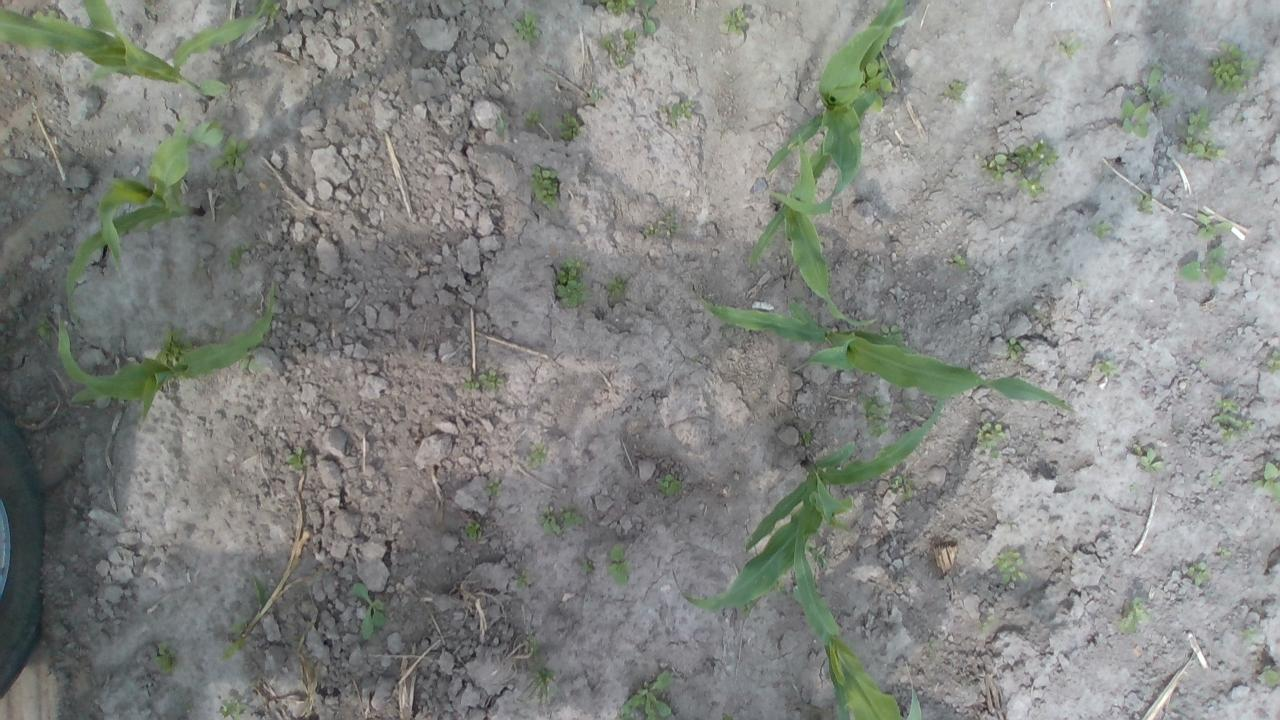Maize: (674, 396, 947, 610), (700, 303, 1080, 416), (63, 118, 223, 332), (55, 278, 279, 422), (747, 84, 881, 323), (763, 0, 912, 213), (789, 502, 928, 720), (1, 0, 280, 102), (221, 574, 272, 661)
Weeds: (981, 138, 1060, 198), (1119, 62, 1176, 138), (618, 668, 676, 720), (1208, 41, 1259, 94), (1182, 108, 1226, 162), (1178, 244, 1228, 284), (352, 583, 387, 640), (552, 259, 588, 308), (866, 58, 894, 114), (538, 504, 586, 536), (858, 391, 889, 437), (528, 163, 560, 207), (600, 30, 636, 69), (1212, 412, 1254, 443), (976, 421, 1008, 459), (1253, 459, 1280, 502), (213, 140, 250, 170), (995, 548, 1027, 582), (1118, 598, 1150, 632), (1195, 212, 1233, 239), (160, 332, 190, 365), (608, 544, 631, 586), (1132, 444, 1164, 474), (719, 5, 749, 36), (660, 101, 694, 127), (532, 664, 556, 700), (589, 0, 637, 17), (636, 0, 658, 35), (513, 12, 539, 41), (1056, 32, 1085, 57), (556, 112, 582, 139), (154, 642, 176, 672), (940, 79, 966, 103), (526, 443, 548, 470), (286, 445, 308, 472), (657, 473, 681, 496), (1189, 562, 1212, 586), (477, 369, 503, 390), (492, 111, 511, 139), (891, 474, 915, 496), (806, 544, 830, 566), (1134, 192, 1155, 216), (221, 699, 244, 720), (226, 246, 246, 270), (658, 212, 678, 236), (1238, 625, 1264, 643), (1259, 667, 1280, 688), (1092, 219, 1114, 239), (1094, 358, 1119, 375), (879, 324, 903, 341), (1216, 396, 1240, 413), (607, 278, 627, 298), (1265, 350, 1280, 375), (1006, 337, 1022, 360), (1208, 469, 1226, 489), (486, 477, 503, 498), (38, 318, 54, 340), (976, 614, 994, 632), (465, 521, 481, 541), (264, 0, 282, 17), (513, 573, 532, 589), (800, 428, 816, 446), (949, 255, 968, 270), (462, 374, 478, 390), (524, 110, 540, 126), (588, 86, 604, 101), (642, 222, 658, 236), (770, 578, 784, 593), (582, 558, 594, 572), (1217, 548, 1231, 558), (720, 710, 733, 720)
